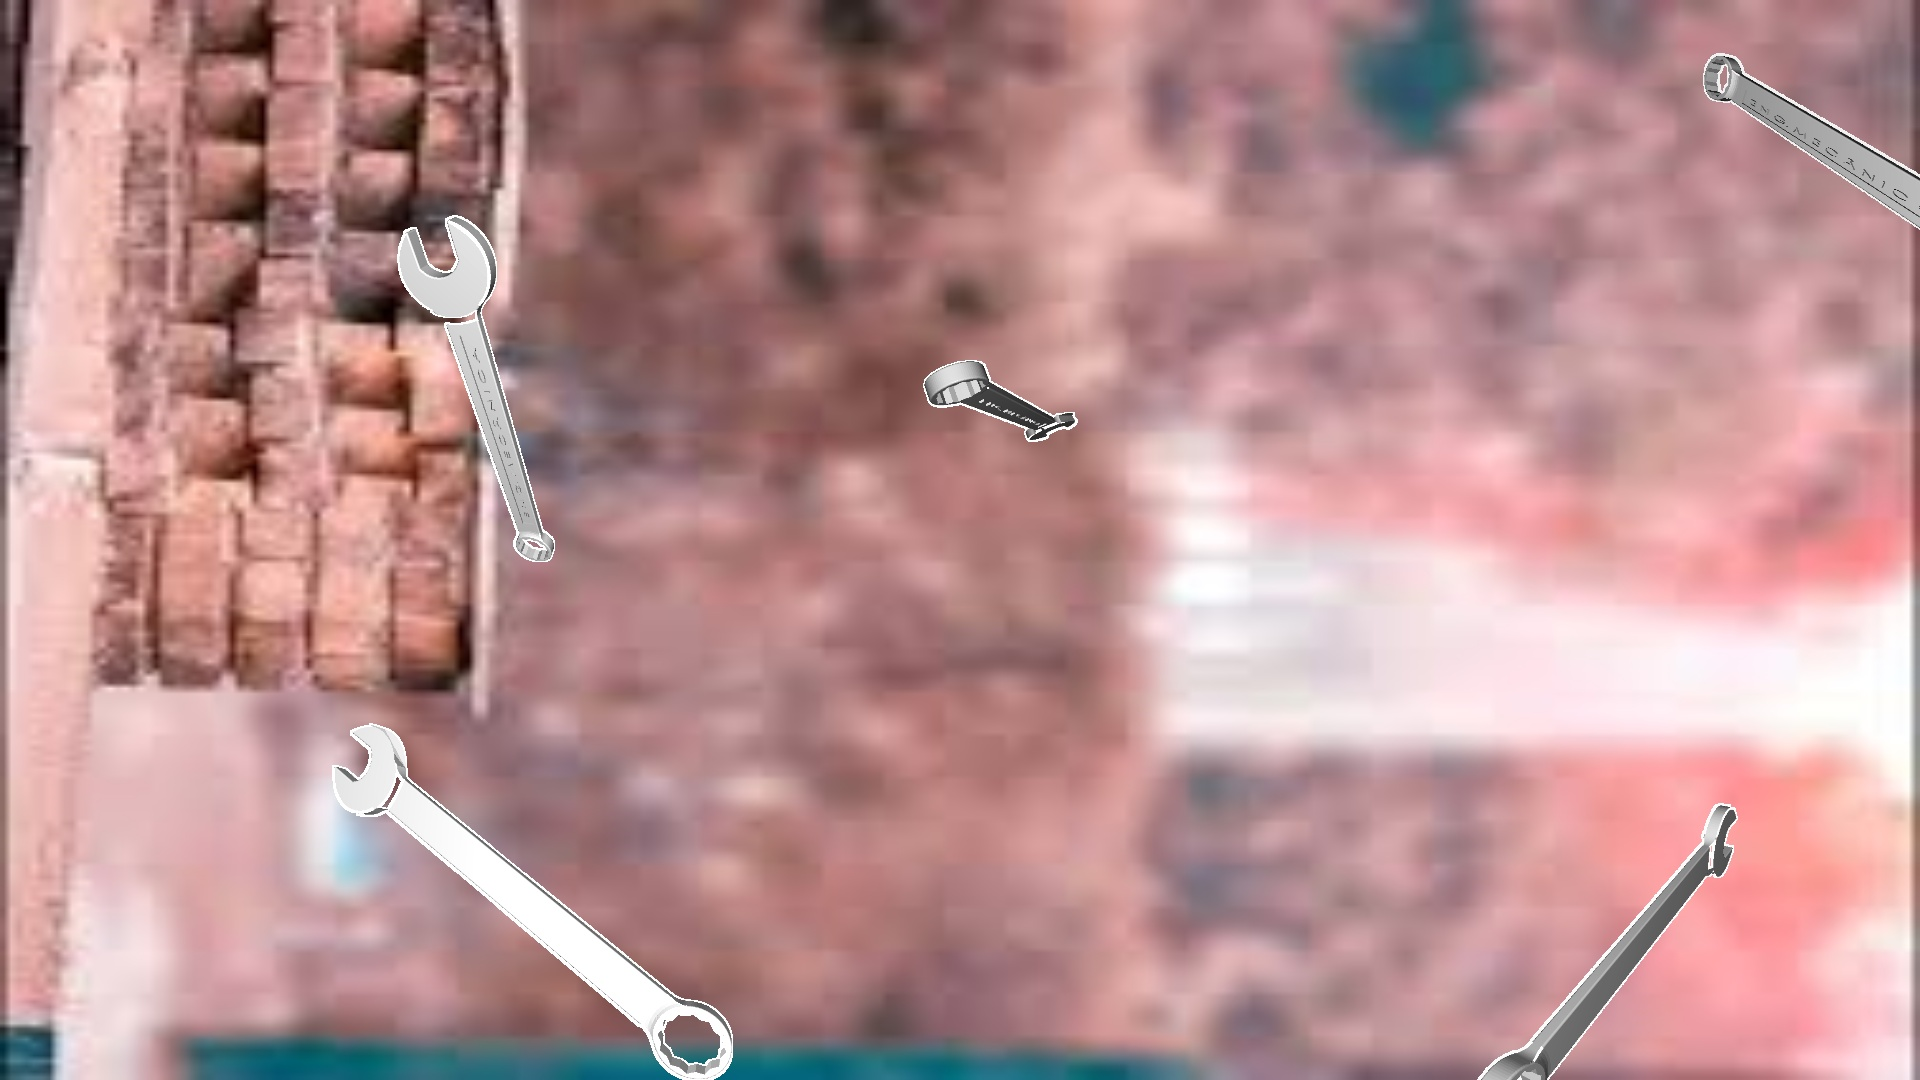Mixed Key: (332, 723, 732, 1079), (1477, 803, 1737, 1079), (397, 215, 554, 560), (1702, 53, 1919, 229), (923, 360, 1077, 440)
